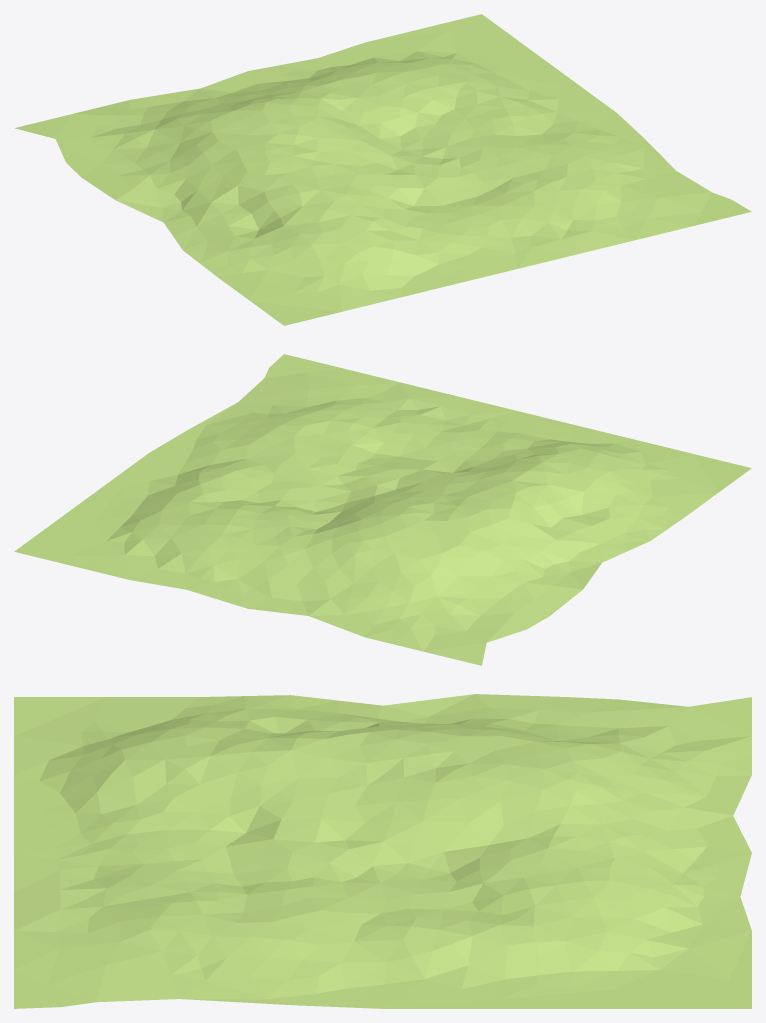
File: lowPolyTiles_demoLandscape.fbx
3 renders of one model, top to bottom at view 1: azimuth 30°, elevation 25°; view 2: azimuth 150°, elevation 25°; view 3: azimuth 270°, elevation 25°, orthographic. The views are drawn at different scales.
Visible parts, largest first — view 1: lowPolyTiles_demoLandscape; view 2: lowPolyTiles_demoLandscape; view 3: lowPolyTiles_demoLandscape.
Part boxes in pixels (x1=…): lowPolyTiles_demoLandscape: x1=14, y1=14, x2=751, y2=325; lowPolyTiles_demoLandscape: x1=14, y1=354, x2=751, y2=665; lowPolyTiles_demoLandscape: x1=14, y1=694, x2=751, y2=1008.
Bounding box in the file's own units: 2000 × 129 × 2000.
